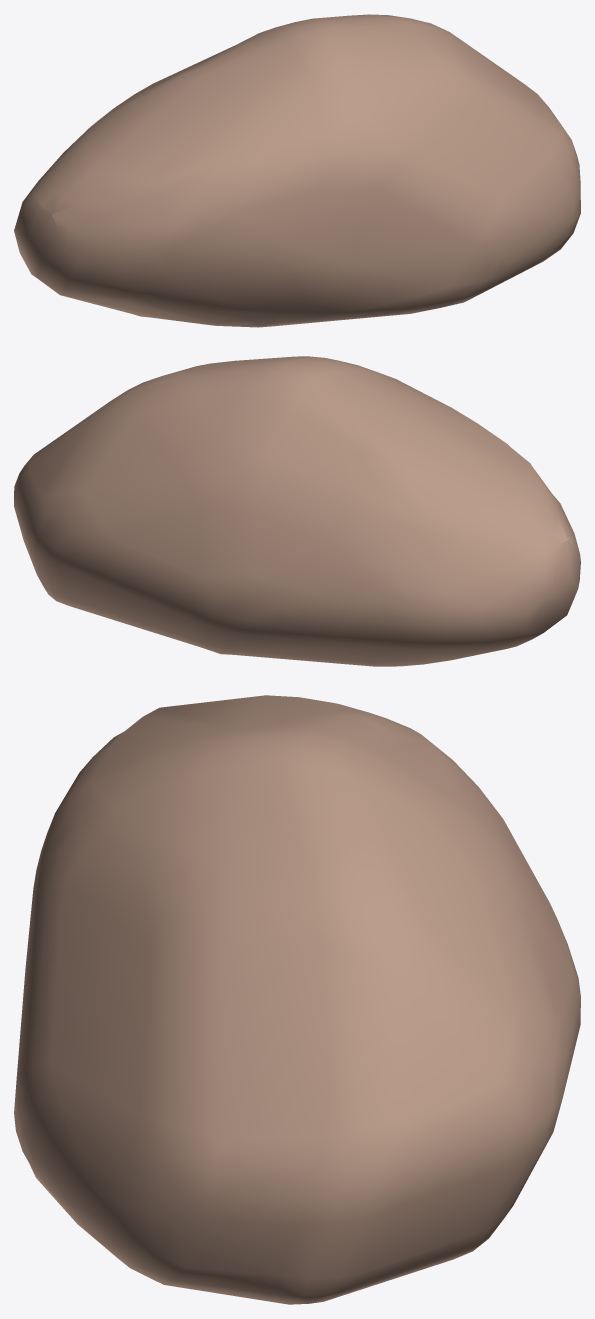
File: Boulder_03_Long_MaxPoligon.fbx
The picture shows the model from 3 angles, top to bottom: view 1: azimuth 30°, elevation 25°; view 2: azimuth 150°, elevation 25°; view 3: azimuth 270°, elevation 25°; orthographic projection. The views are drawn at different scales.
Visible parts, largest first — view 1: Boulder_03_Long; view 2: Boulder_03_Long; view 3: Boulder_03_Long.
Boxes of the visible parts, x1,y1,x2,y2 form: Boulder_03_Long: (14, 14, 580, 327); Boulder_03_Long: (14, 356, 580, 666); Boulder_03_Long: (14, 695, 580, 1304).
Bounding box in the file's own units: 2.77 × 1.18 × 1.58.
